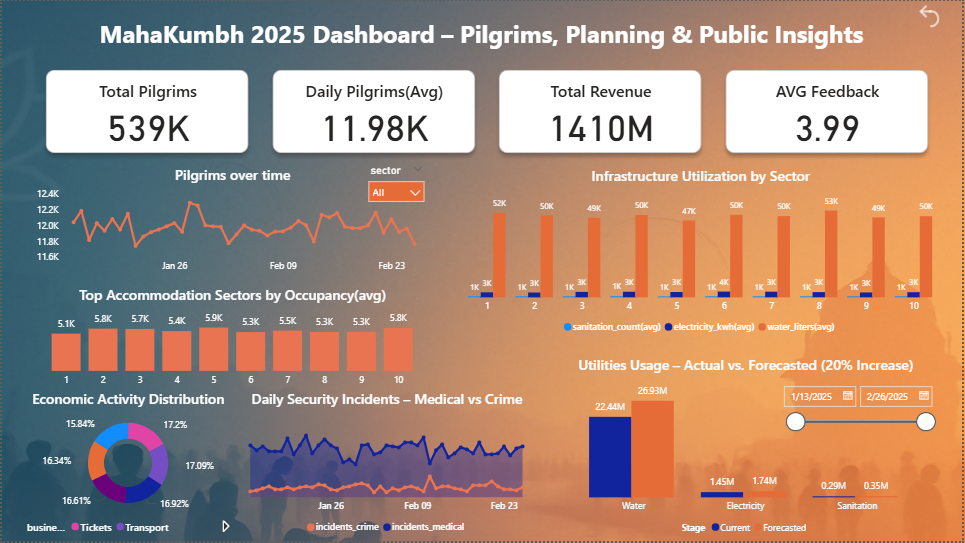

Layout of this report page (visuals, bound fields, positions):
{"tool":"powerbi","page":{"name":"Makakhumbh analysis","canvas":[1280,720],"ordinal":0},"visuals":[{"type":"cardVisual","title":"Total Pilgrims","fields":{"Data":["Sum(public pilgrim_attendance.pilgrims)","public pilgrim_attendance.Average Daily Pilgrims","Sum(public economic_activity.revenue_rs)","Avg(public infrastructure.feedback_score)"]},"box":[41.7,75,1210,145],"z":0},{"type":"textbox","box":[26.7,16.7,1225,58.3],"z":1000},{"type":"lineChart","title":"Pilgrims over time","fields":{"Category":["public pilgrim_attendance.date"],"Y":["Sum(public pilgrim_attendance.pilgrims)"]},"box":[41.7,218.3,531.7,153.3],"z":2000},{"type":"clusteredColumnChart","title":"Top Accommodation Sectors by Occupancy(avg)","fields":{"Category":["public accommodation.sector"],"Y":["public accommodation.Average_occupancy"]},"box":[41.7,378.3,531.7,145],"z":3000},{"type":"clusteredColumnChart","title":"Infrastructure Utilization by Sector","fields":{"Category":["public infrastructure.sector"],"Y":["Avg(public infrastructure.sanitation_count)","Avg(public infrastructure.electricity_kwh)","Avg(public infrastructure.water_liters)"]},"box":[591.7,220,680,233.3],"z":4000},{"type":"donutChart","title":"Economic Activity Distribution","fields":{"Category":["public economic_activity.business_type"],"Y":["Sum(public economic_activity.revenue_rs)"]},"box":[28.3,516.7,280,203.3],"z":5000},{"type":"areaChart","title":"Daily Security Incidents – Medical vs Crime","fields":{"Category":["public security.date"],"Y":["Sum(public security.incidents_crime)","Sum(public security.incidents_medical)"]},"box":[308.3,516.7,410,203.3],"z":6000},{"type":"lineClusteredColumnComboChart","title":"Utilities Usage – Actual vs. Forecasted (20% Increase)","fields":{"Category":["Combined_Waterfall.Metric"],"Series":["Combined_Waterfall.Stage"],"Y":["Sum(Combined_Waterfall.Value)"]},"box":[718.3,471.7,546.7,248.3],"z":6001},{"type":"slicer","fields":{"Values":["public pilgrim_attendance.date"]},"box":[1030,503.3,223.3,73.3],"z":6002},{"type":"slicer","fields":{"Values":["public pilgrim_attendance.sector"]},"box":[478.3,211.7,95,61.7],"z":6003},{"type":"actionButton","box":[1216.7,0,48.3,40],"z":6004}]}

Visuals, with their boxes in screenshot pixels (x1, y1, x2, y2), scaled from the page's 1280x720 canvas onto the 965x543 screenshot:
"Total Pilgrims" cardVisual: 31,57,944,166
textbox: 20,13,944,57
"Pilgrims over time" lineChart: 31,165,432,280
"Top Accommodation Sectors by Occupancy(avg)" clusteredColumnChart: 31,285,432,395
"Infrastructure Utilization by Sector" clusteredColumnChart: 446,166,959,342
"Economic Activity Distribution" donutChart: 21,390,232,542
"Daily Security Incidents – Medical vs Crime" areaChart: 232,390,542,542
"Utilities Usage – Actual vs. Forecasted (20% Increase)" lineClusteredColumnComboChart: 542,356,954,542
slicer - public pilgrim_attendance.date: 777,380,945,435
slicer - public pilgrim_attendance.sector: 361,160,432,206
actionButton: 917,0,954,30
